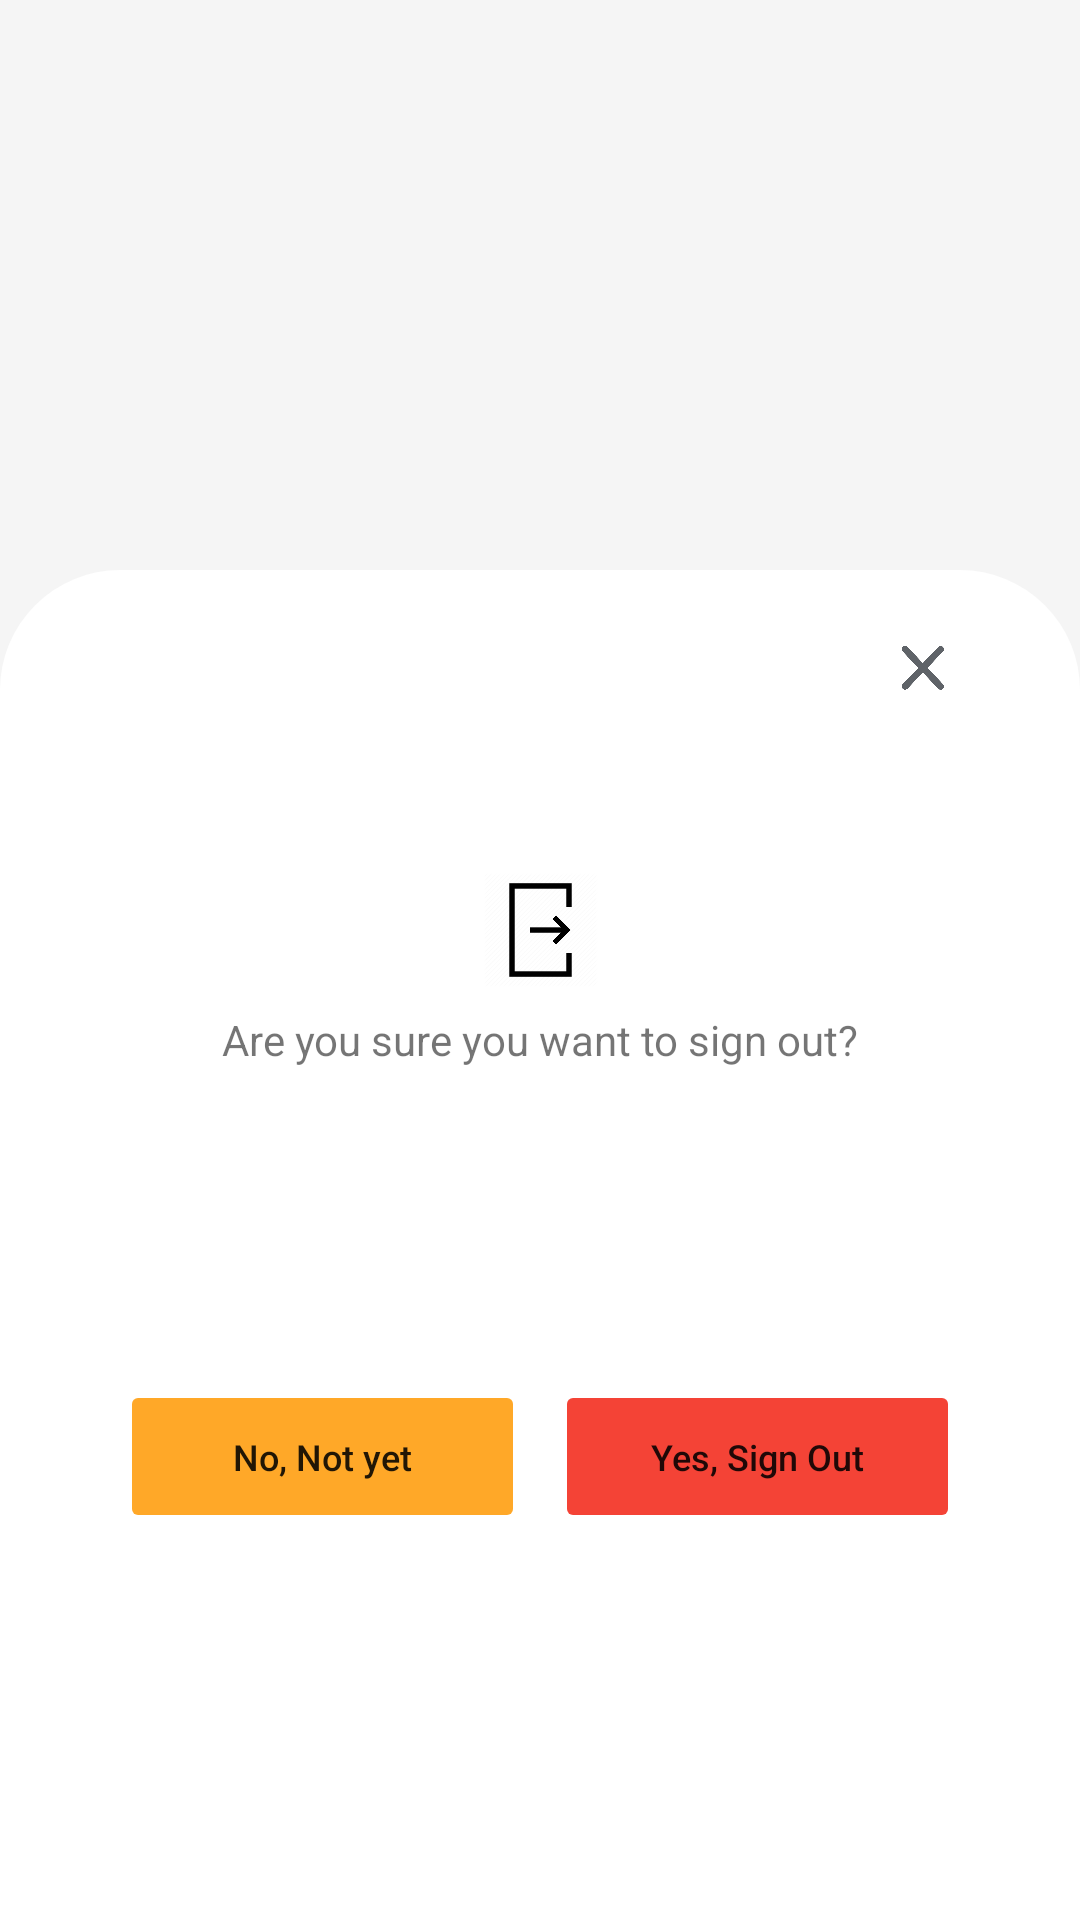

Icon click points for this 1080 × 1920 phone screenshot, format point (x, y):
close: point (923, 668)
